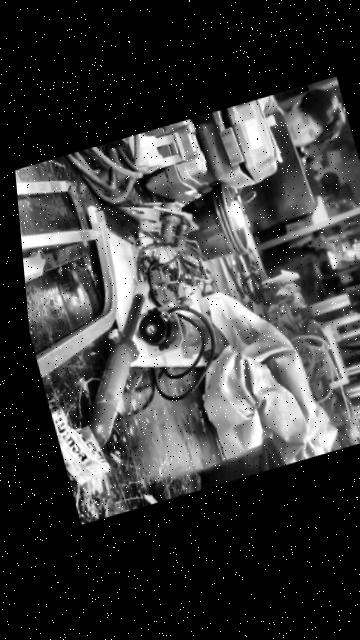pot: (189, 433, 288, 491)
